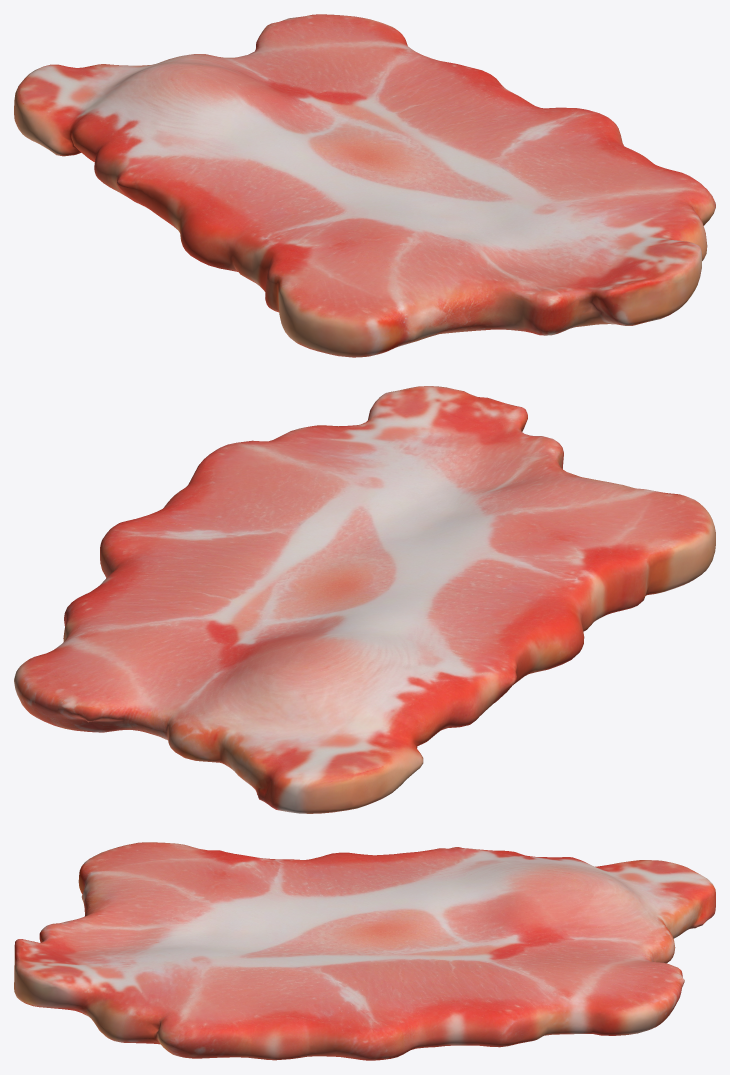
File: Meshy_AI_Raw_pork_chop_0422164214_texture.fbx
3 renders of one model, top to bottom at view 1: azimuth 30°, elevation 25°; view 2: azimuth 150°, elevation 25°; view 3: azimuth 270°, elevation 25°, orthographic. The views are drawn at different scales.
Visible parts, largest first — view 1: Mesh_0; view 2: Mesh_0; view 3: Mesh_0.
Boxes of the visible parts, <box> form: Mesh_0: <box>14,14,715,357</box>; Mesh_0: <box>14,386,715,813</box>; Mesh_0: <box>14,842,715,1060</box>.
Bounding box in the file's own units: 129 × 21.63 × 200.
Materials: 1 (1 with a texture image).
